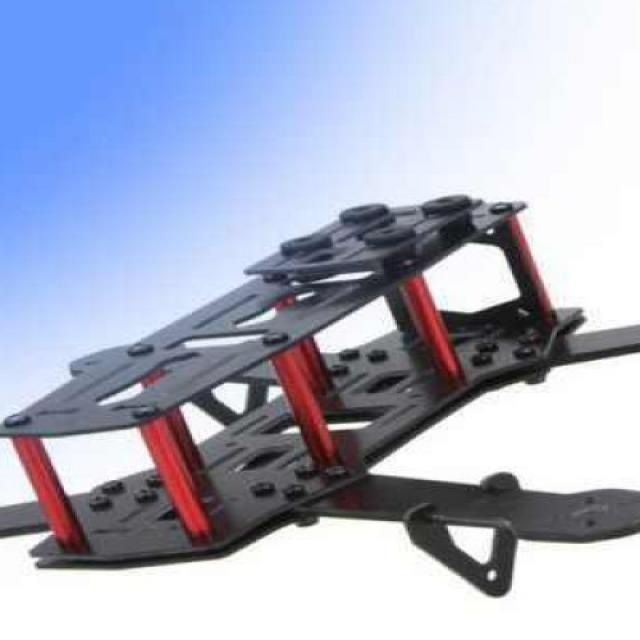drone: (0, 201, 640, 557)
